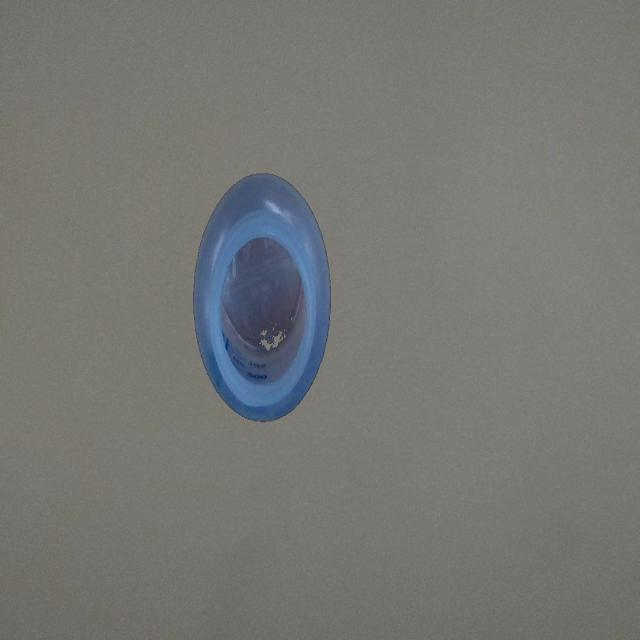bottle: (193, 168, 332, 423)
